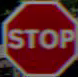Stop: (12, 11, 70, 59)
